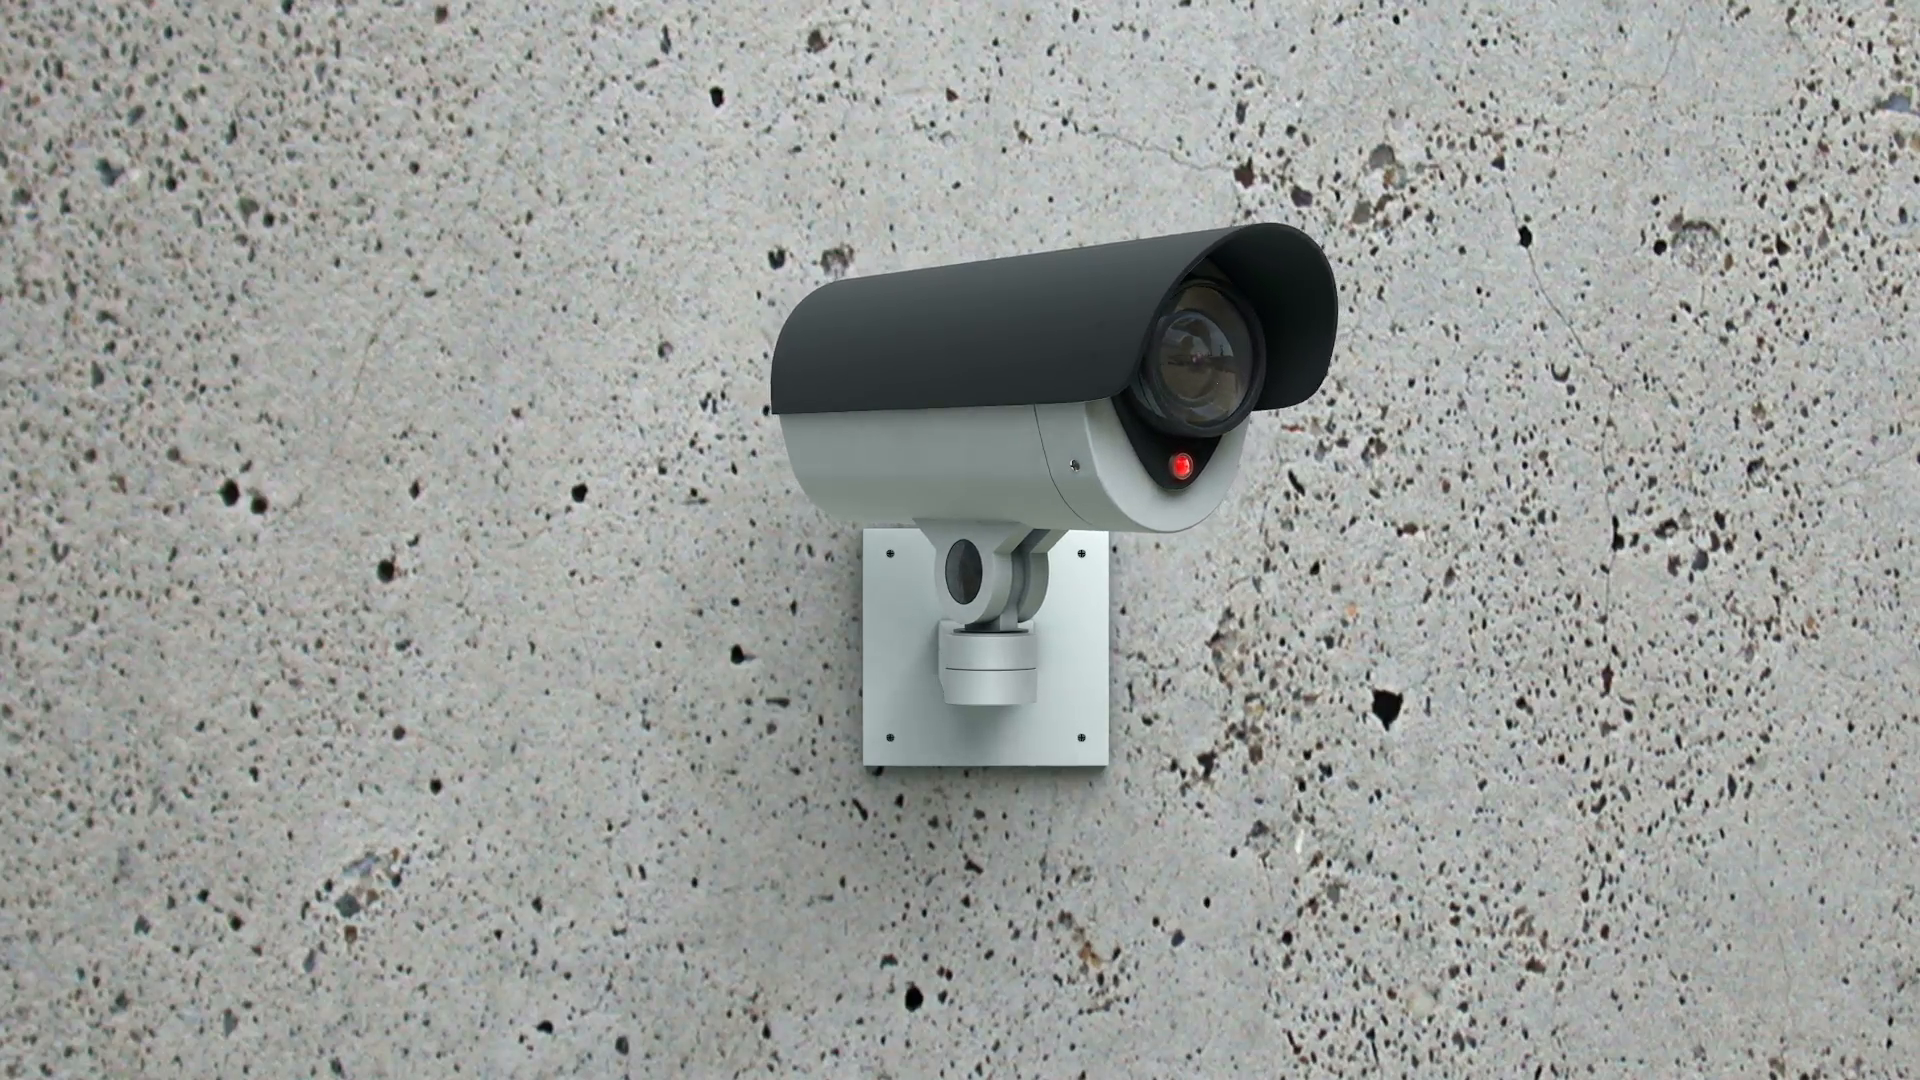CC Camera: (741, 211, 1361, 545)
